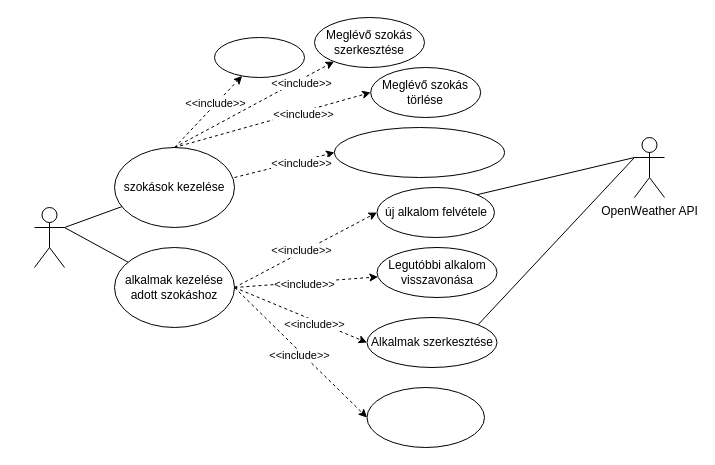
Image size: 715x465. Some labels were removed from this diagram. Each missing label, with the centre of its shape:
"Alkalmak és statisztikáik megtekintése" belongs at point 425,417.
"Felhasználó" belongs at point 49,237.
"Meglévő szokások sorrendjének változtatása" belongs at point 419,152.
"Új szokás felvétele" belongs at point 259,57.
